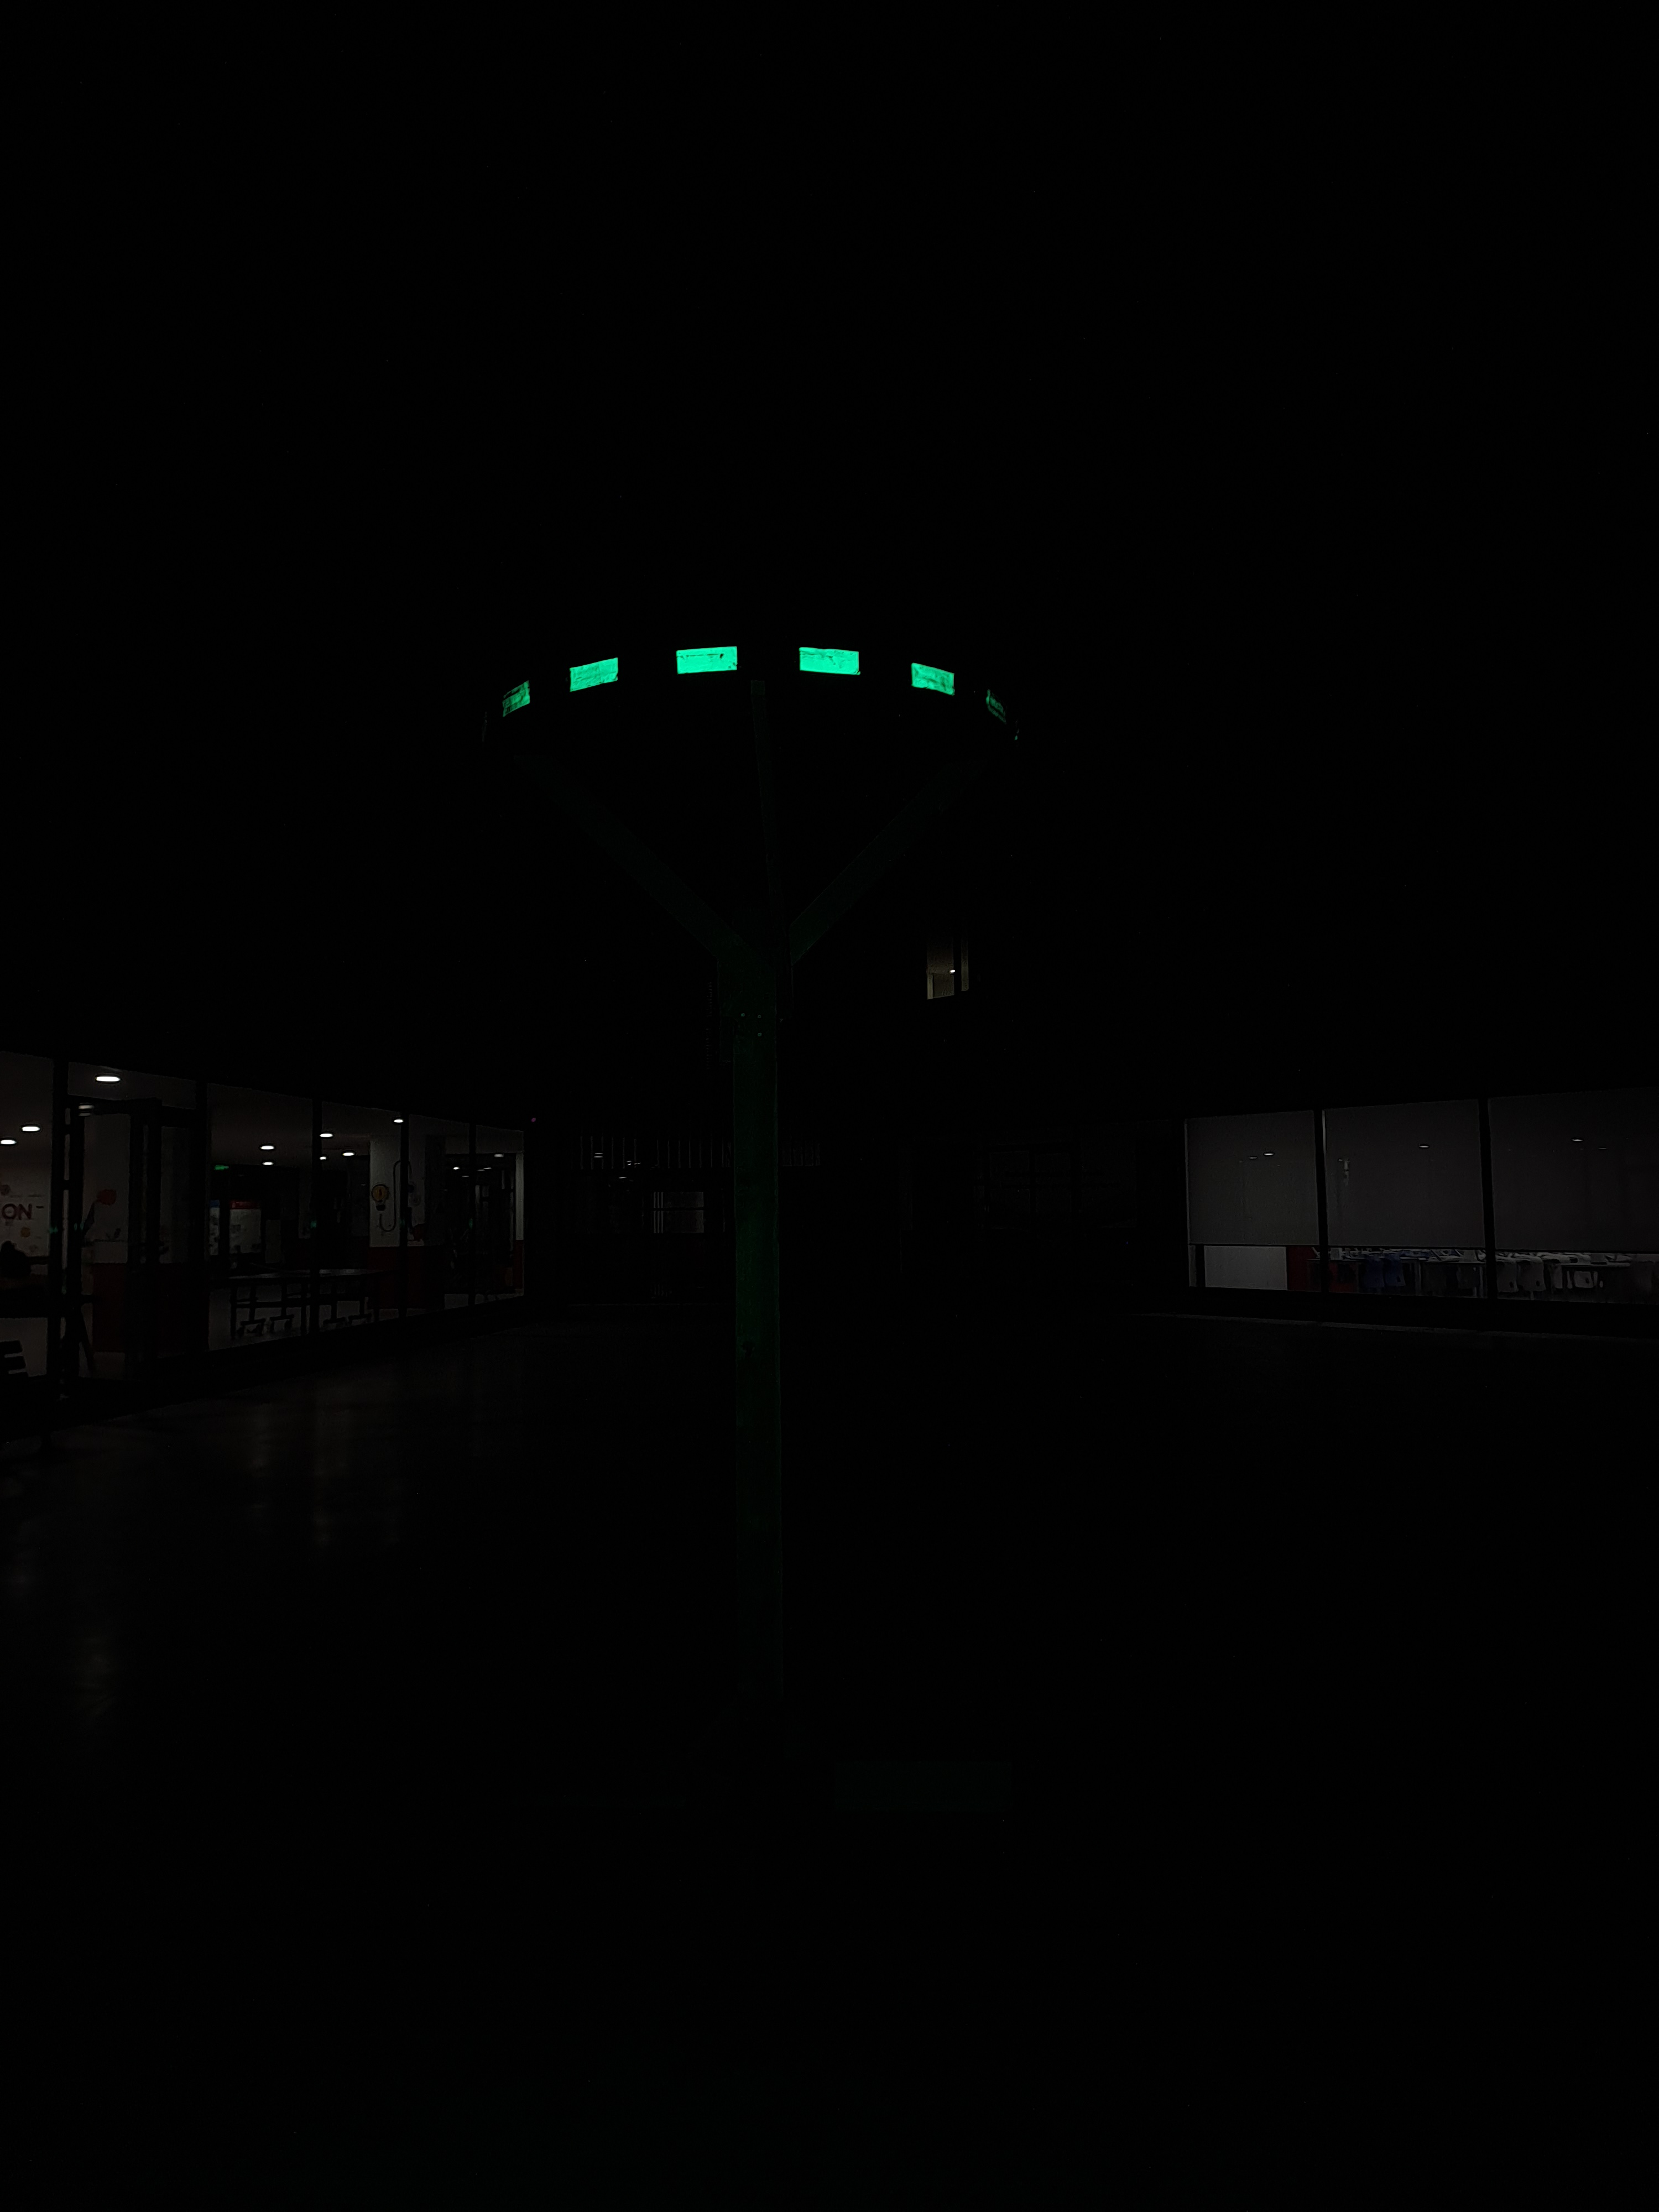hoop: (488, 634, 962, 714)
